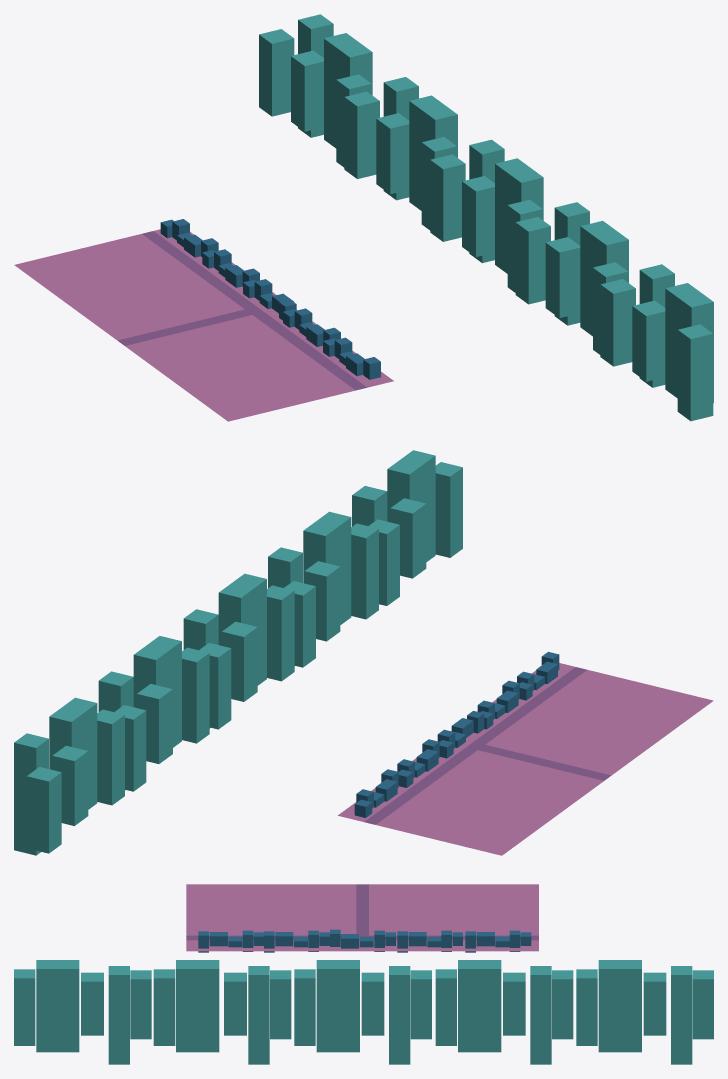
File: Test_Environment.fbx
The picture shows the model from 3 angles, top to bottom: view 1: azimuth 30°, elevation 25°; view 2: azimuth 150°, elevation 25°; view 3: azimuth 270°, elevation 25°; orthographic projection. The views are drawn at different scales.
Parts seen in each view (by area): view 1: pCube51, pPlane1, pCube52; view 2: pCube51, pPlane1, pCube52; view 3: pCube51, pPlane1, pCube52.
Part boxes in pixels (x1,y1,x2,y2): pCube51: (259,14,713,421); pPlane1: (14,229,393,421); pCube52: (160,219,380,379); pCube51: (14,450,462,855); pPlane1: (338,663,713,855); pCube52: (354,651,559,817); pCube51: (14,960,713,1064); pPlane1: (186,884,538,951); pCube52: (198,929,531,952).
Bounding box in the file's own units: 777 × 211 × 1431.
